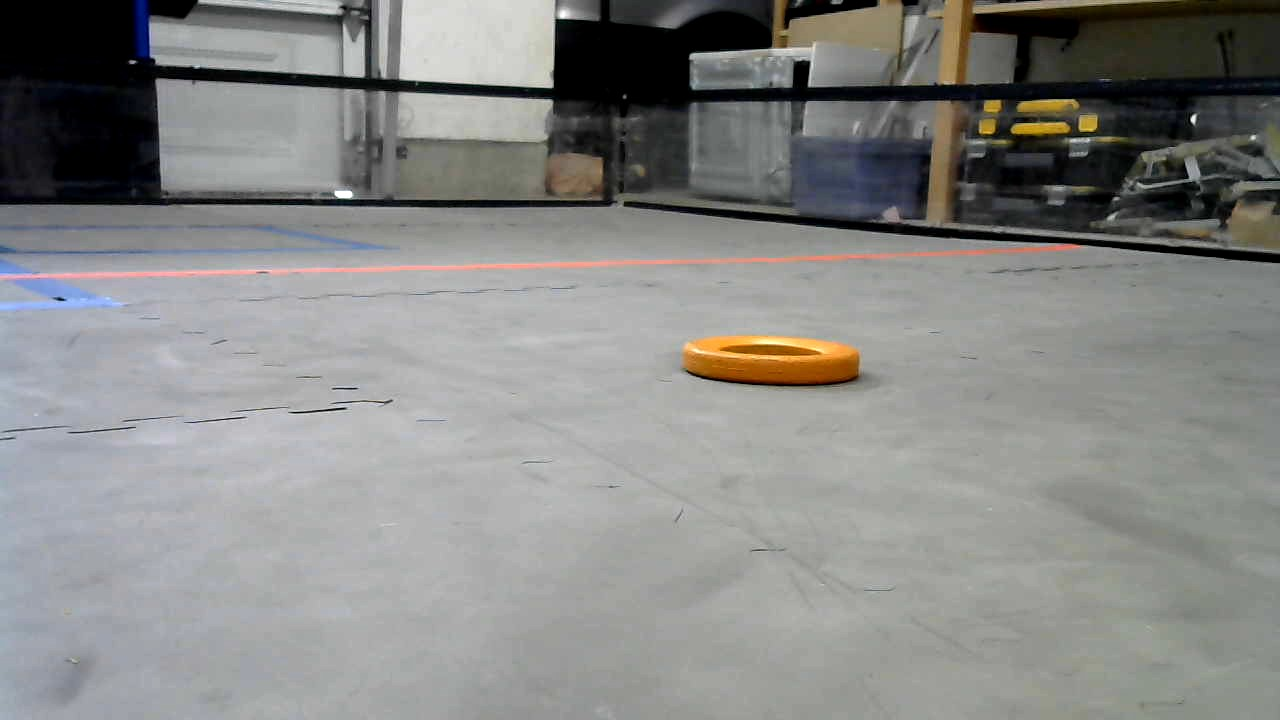OneStack: (683, 333, 860, 386)
